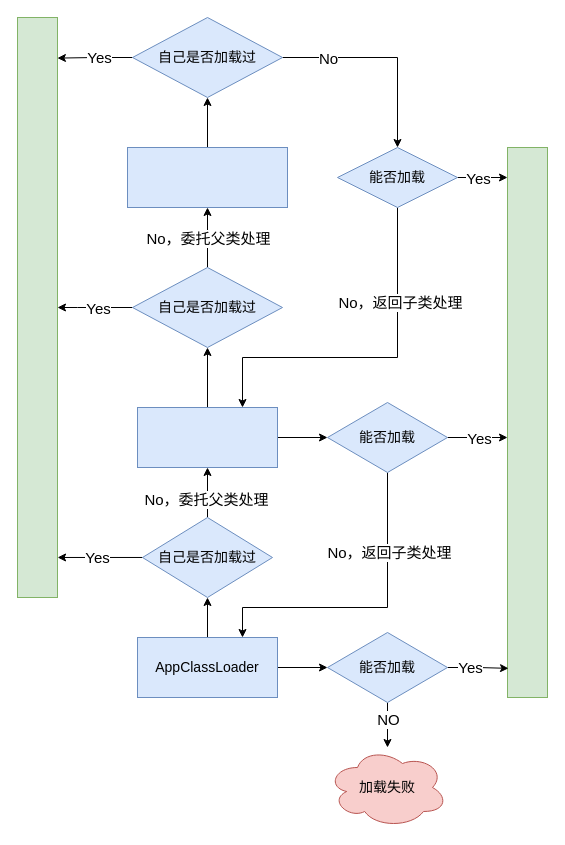
Image size: 565x845. Some labels were removed from this diagram. Here are the shapes that lost their labels. From the top down, the box of each, then its label:
(126, 146, 288, 208): BootstrapClassLoader
(16, 16, 58, 598): 已 加 载 ， 不 在 重 复 加 载
(136, 406, 278, 468): ExtClassLoader
(506, 146, 548, 698): 加 载 该 类
